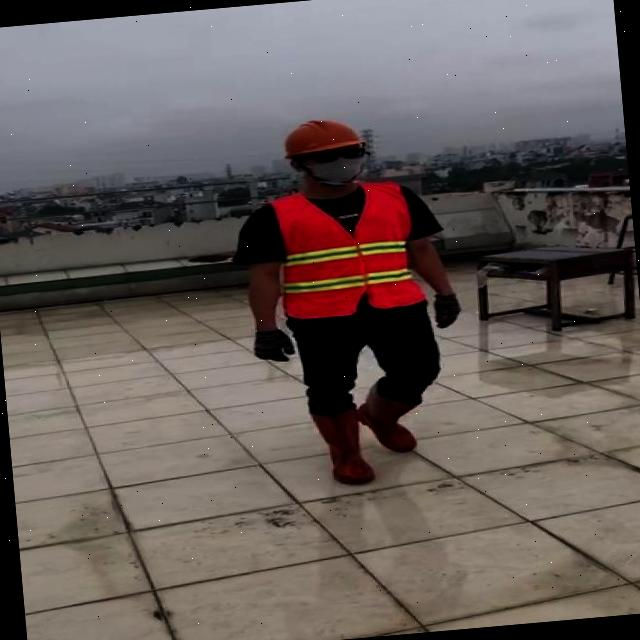boots: (352, 378, 426, 456), (312, 408, 379, 489)
helmet: (276, 114, 370, 160)
vest: (266, 179, 429, 319)
